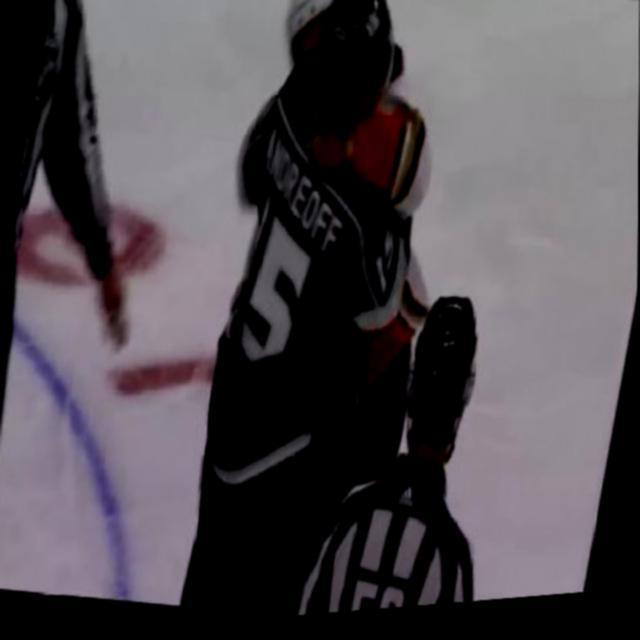fight: (152, 0, 487, 630)
